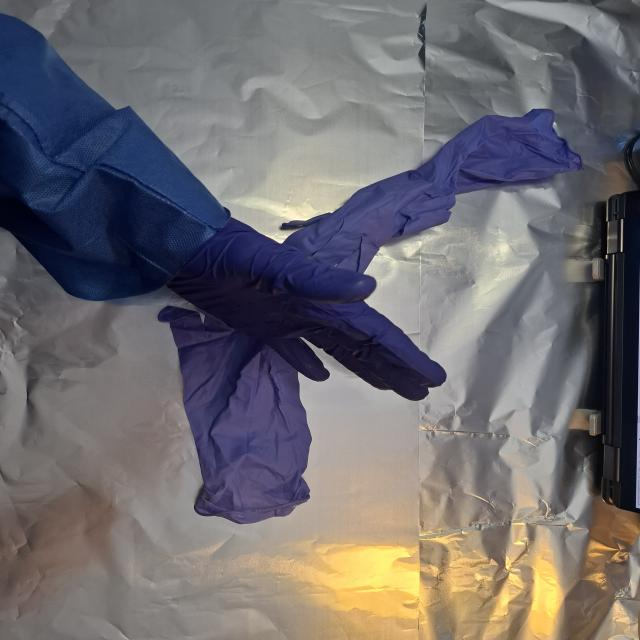glove_on: (164, 218, 450, 403)
